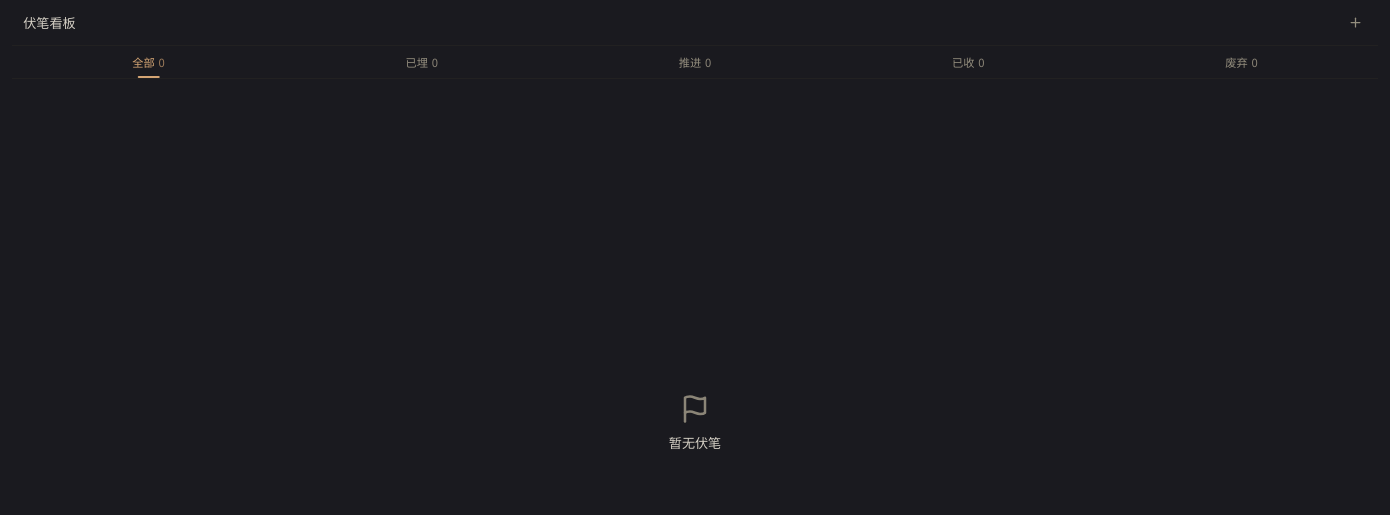
Test: ForeshadowPanel › 点击 + 按钮打开添加输入框
Click the button named "新建伏笔": (1356, 23) [1344,11,1367,34]
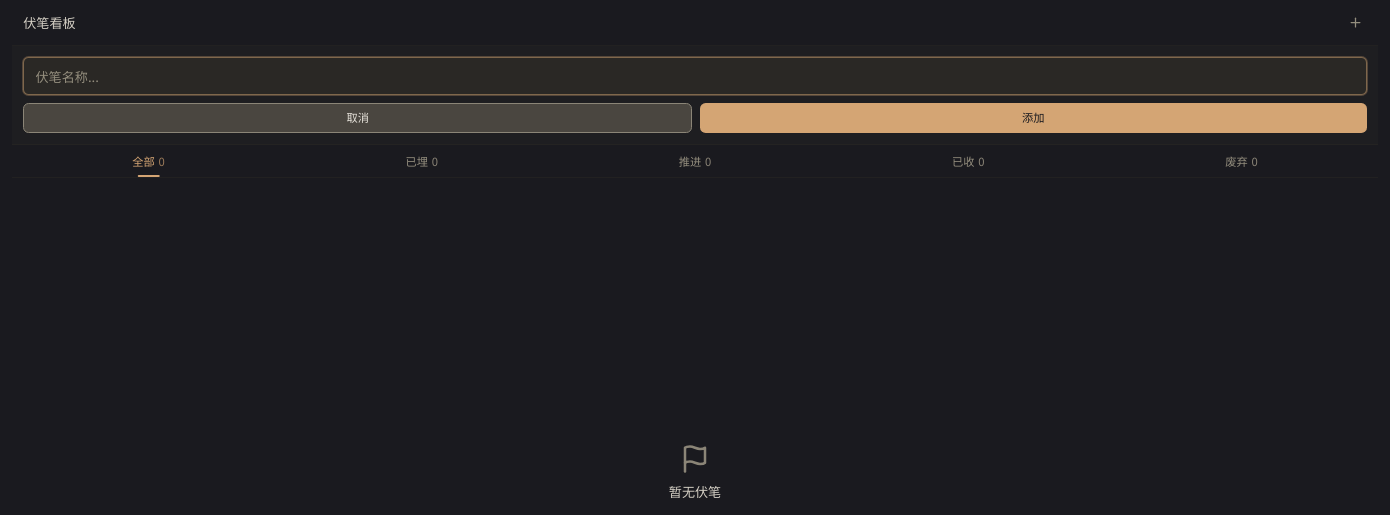
Now the field with placeholder "伏笔名称..." is shown, box [23,57,1367,95]
